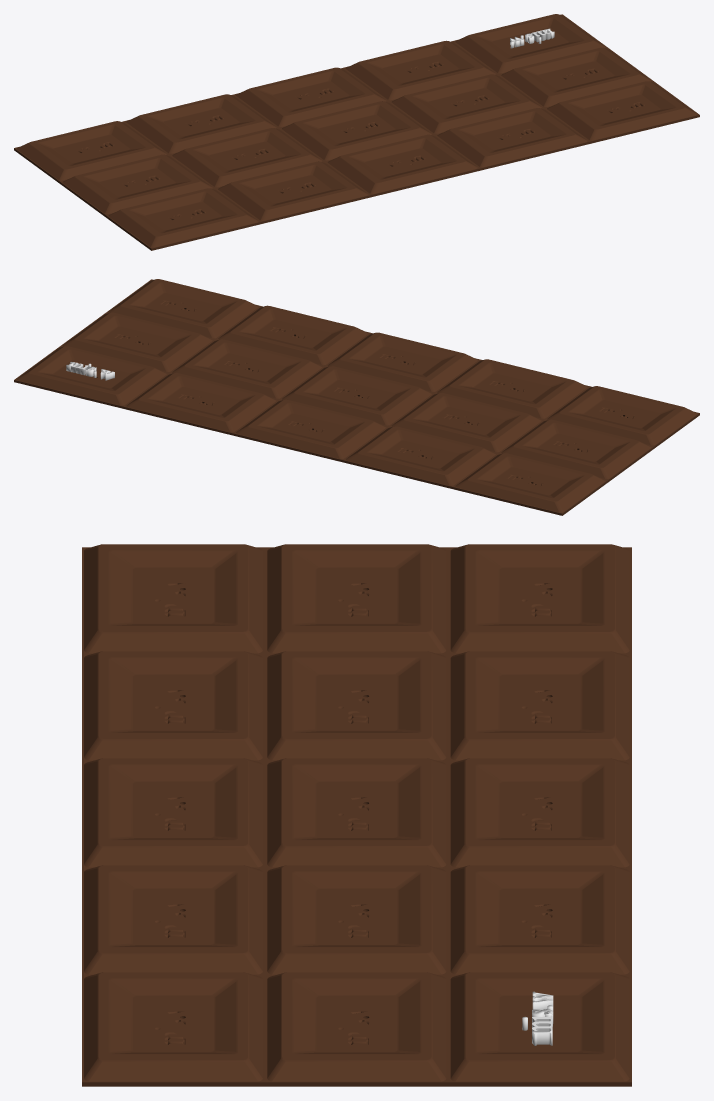
File: chocolate_2.0.fbx
3 views of the same model, one above another, from view 1: azimuth 30°, elevation 25°; view 2: azimuth 150°, elevation 25°; view 3: azimuth 270°, elevation 25° (orthographic). The views are drawn at different scales.
Parts seen in each view (by area): view 1: 立方体, テキスト.003; view 2: 立方体, テキスト.003; view 3: 立方体, テキスト.003.
Part boxes in pixels (x1,y1,x2,y2): 立方体: [14, 14, 699, 250]; テキスト.003: [510, 28, 554, 48]; 立方体: [14, 279, 699, 515]; テキスト.003: [66, 361, 114, 380]; 立方体: [82, 544, 631, 1086]; テキスト.003: [522, 991, 553, 1045].
Bounding box in the file's own units: 10.58 × 0.1923 × 4.59.
